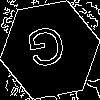G: (25, 25, 69, 77)
